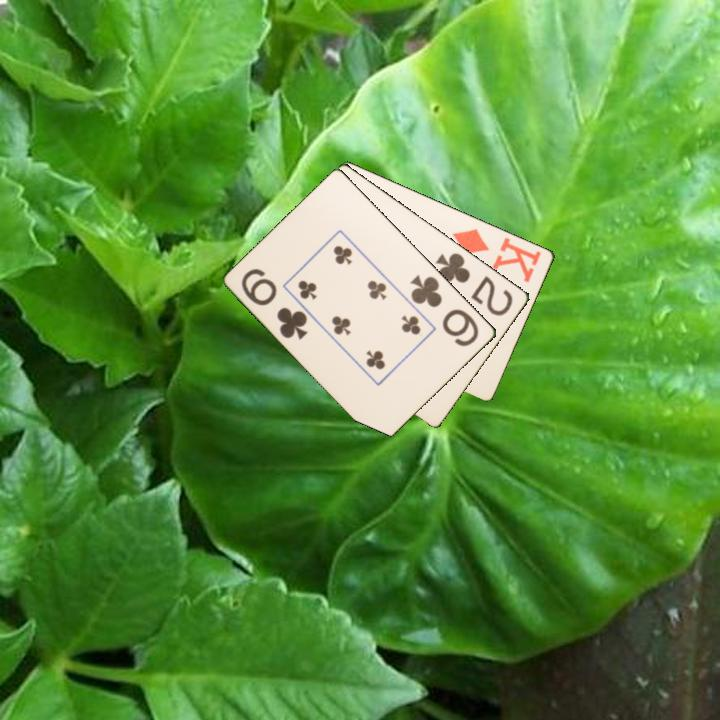2c: (432, 249, 516, 319)
6c: (407, 271, 482, 350), (238, 265, 311, 343)
Kd: (449, 224, 545, 285)
